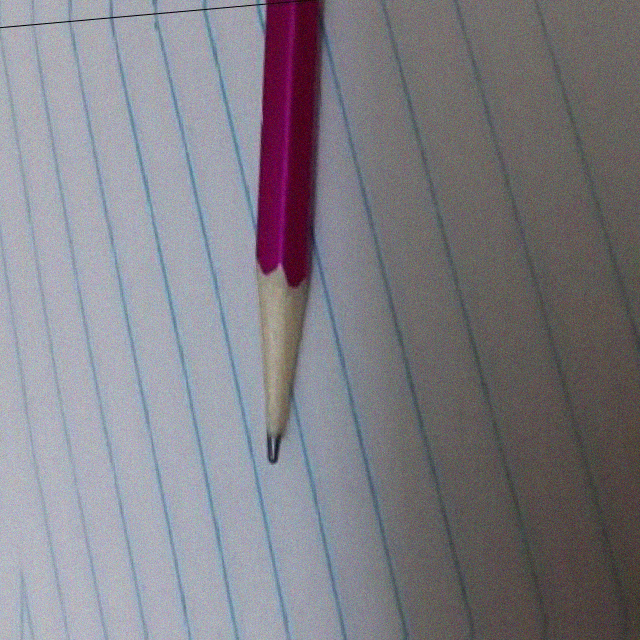pencil: (226, 255, 325, 474)
